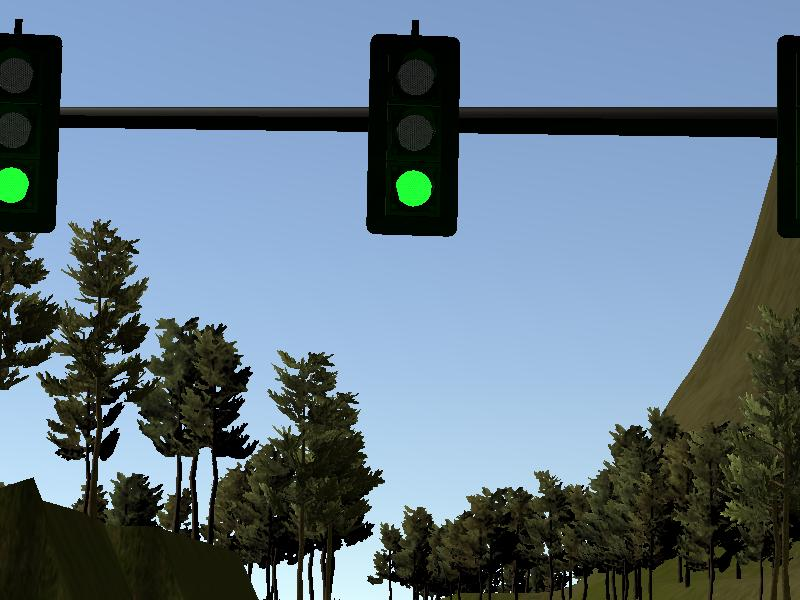not_red: (365, 35, 459, 237), (1, 32, 59, 231)
